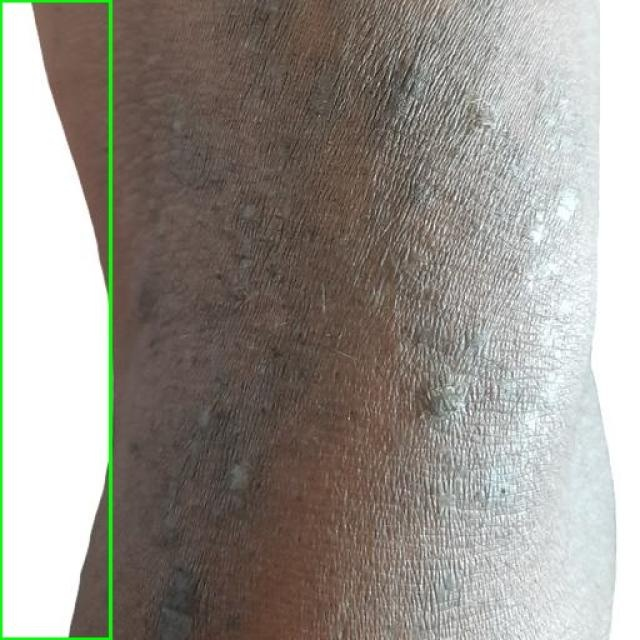Contact Dermatitis: (0, 0, 110, 639)
